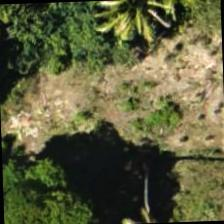Kelapa_Sawit: (89, 0, 182, 60)
